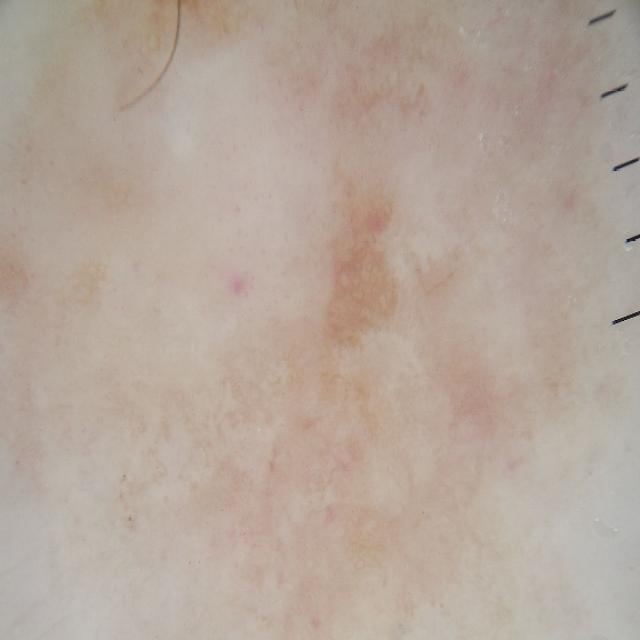Melanoma: (153, 184, 507, 558)
